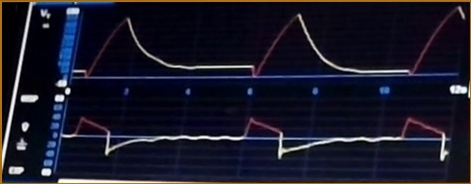Flow: (68, 108, 451, 175)
Leakage Volume: (79, 7, 466, 85)
